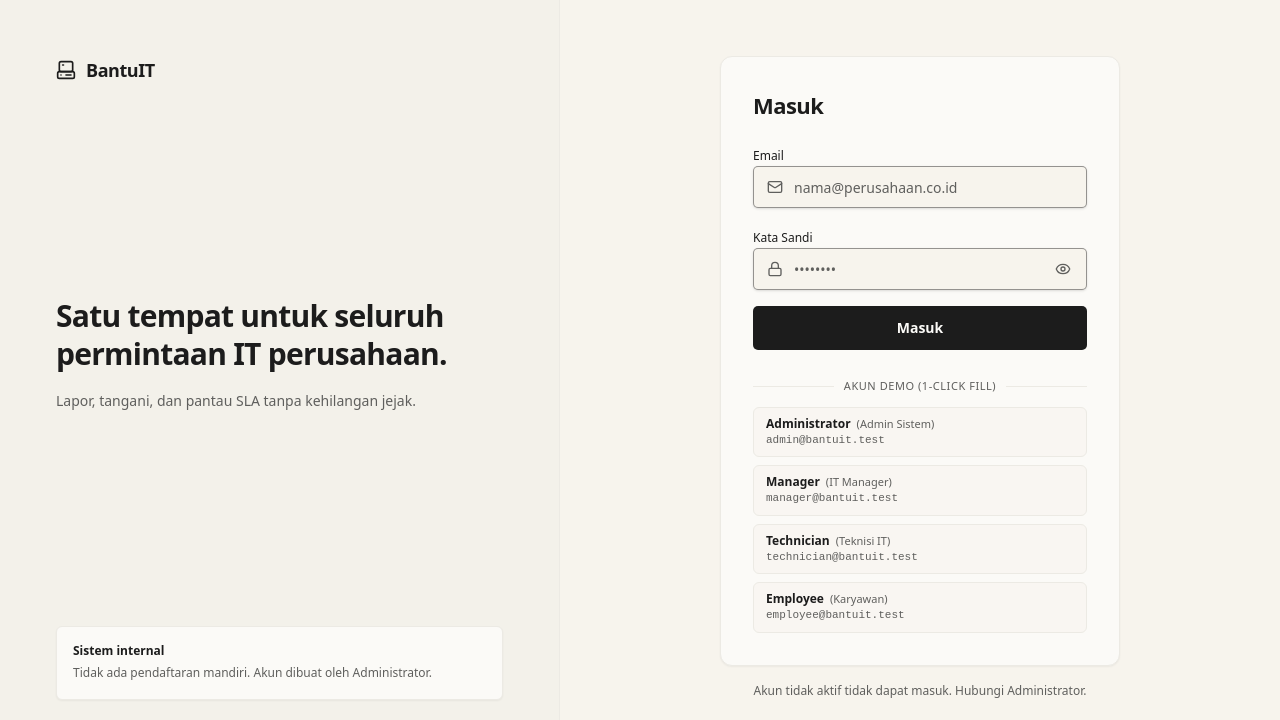
Scenario: LoginPage Demo Account Quick Fill Cards › fills email and password fields when Technician card is clicked
The image size is (1280, 720).
What coordinates should you click on to do the following:
click the button "Technician(Teknisi IT) technician@bantuit.test"
I would click on:
 (920, 549)
Its box is x1=753 y1=524 x2=1087 y2=574.
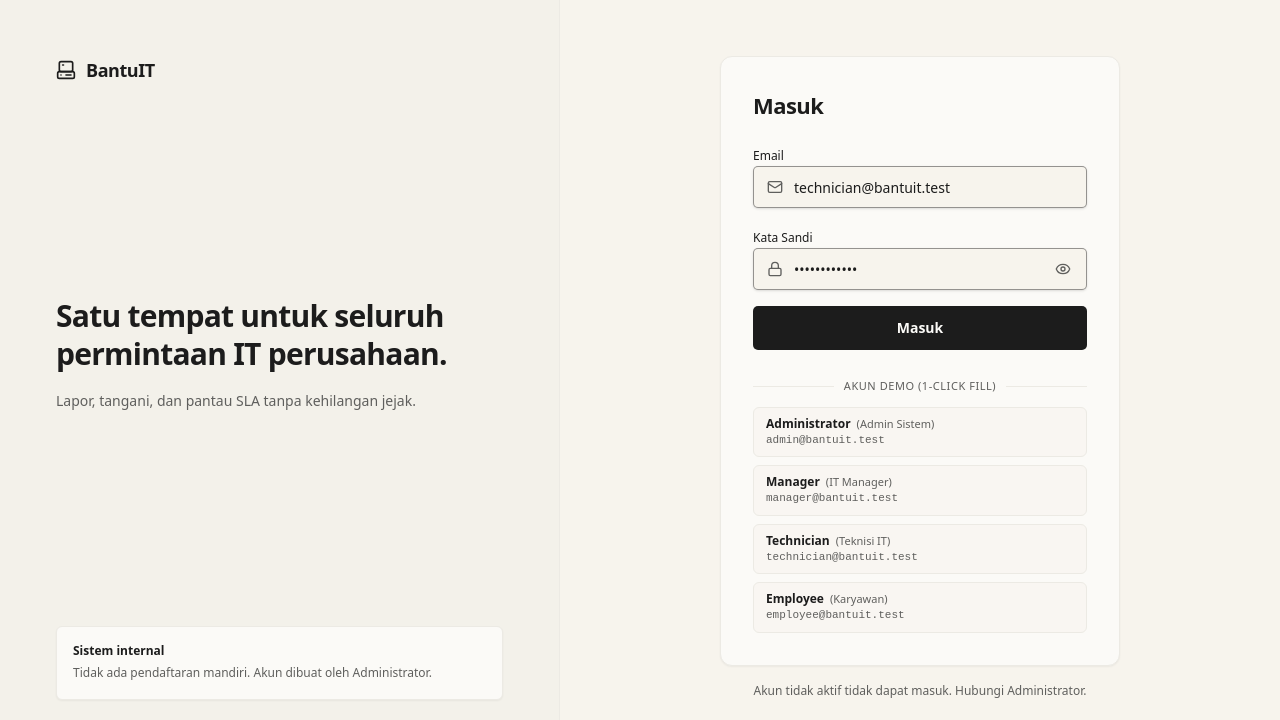
expect the field with placeholder "nama@perusahaan.co.id" holds "technician@bantuit.test": met, box x1=753 y1=166 x2=1087 y2=208
expect the password field with placeholder "••••••••" holds "Password123!": met, box x1=753 y1=248 x2=1087 y2=290
